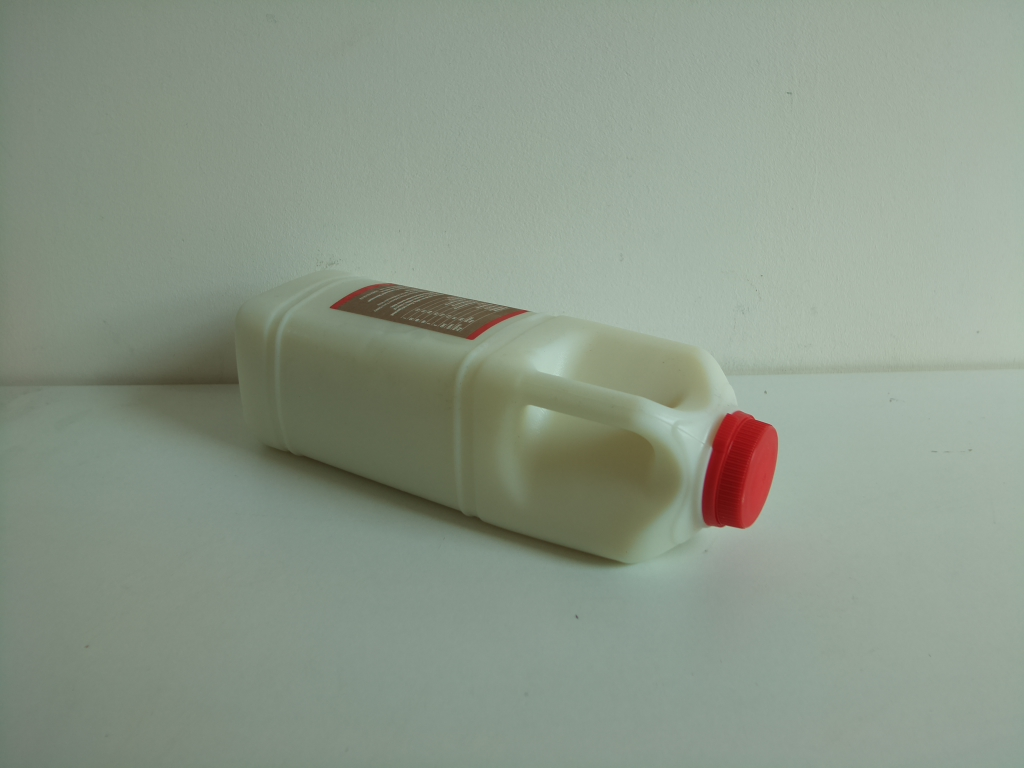milk: (217, 266, 782, 570)
